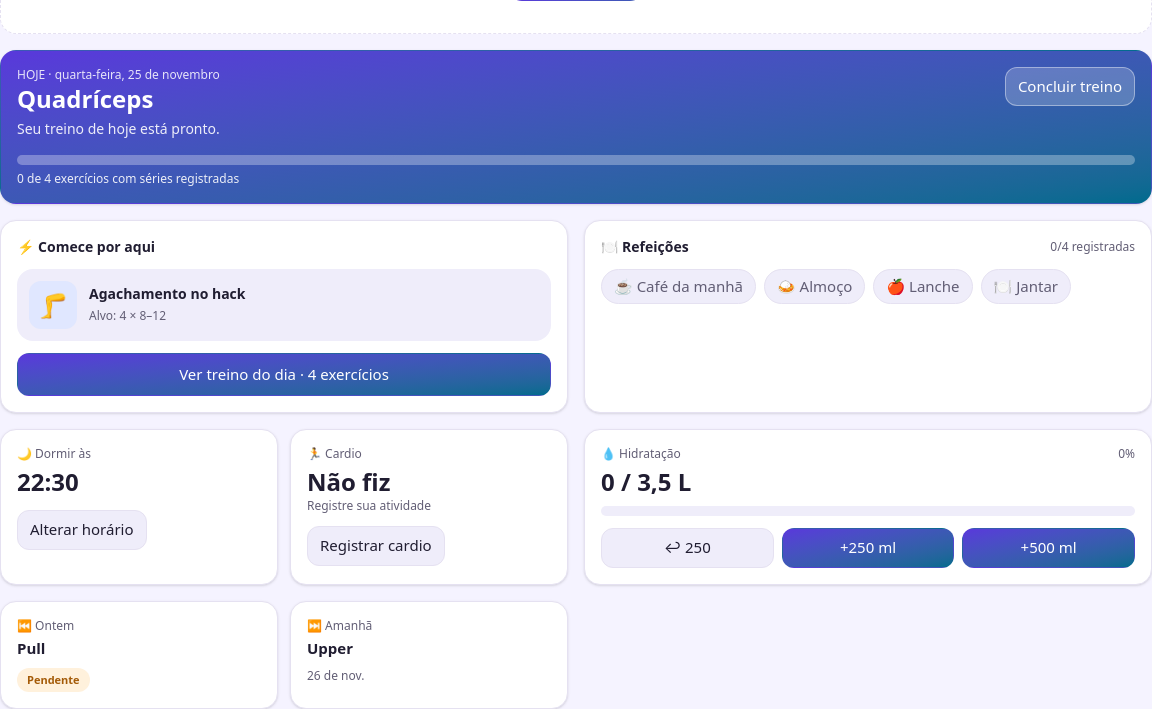
Test: Início (resumo do dia) › cardio validado (1–600) e meta de água sobe 500 ml com cardio
(page scrolled)
Click the button "Registrar cardio" at [376, 546], box [307,526,445,566]
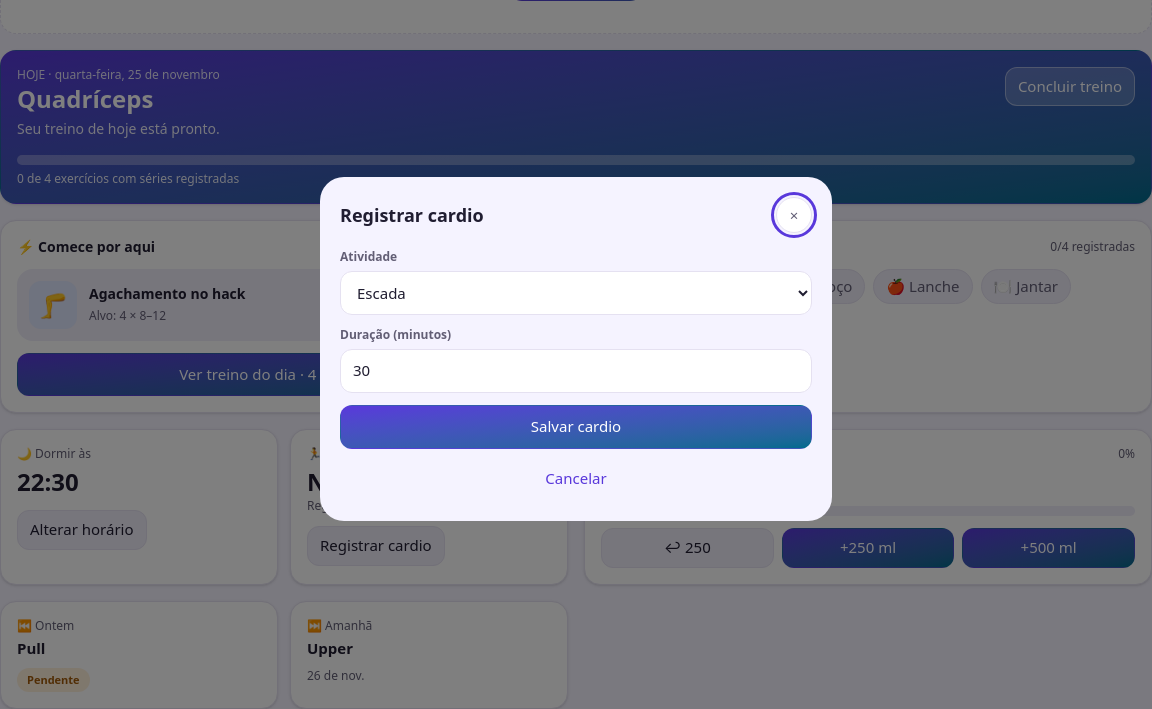
Replace the text in the number field labelled "Duração (minutos)" with "900" at [576, 371], box [340,349,812,393]
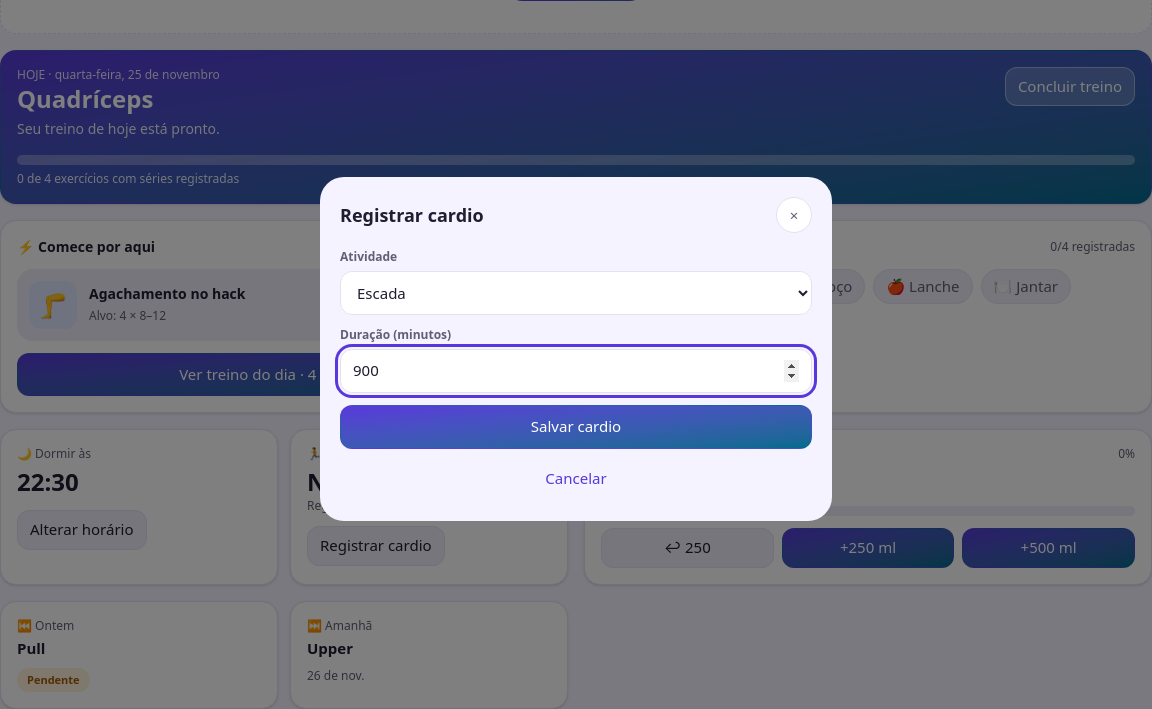
Click the button "Salvar cardio" at [576, 427], box [340,405,812,449]
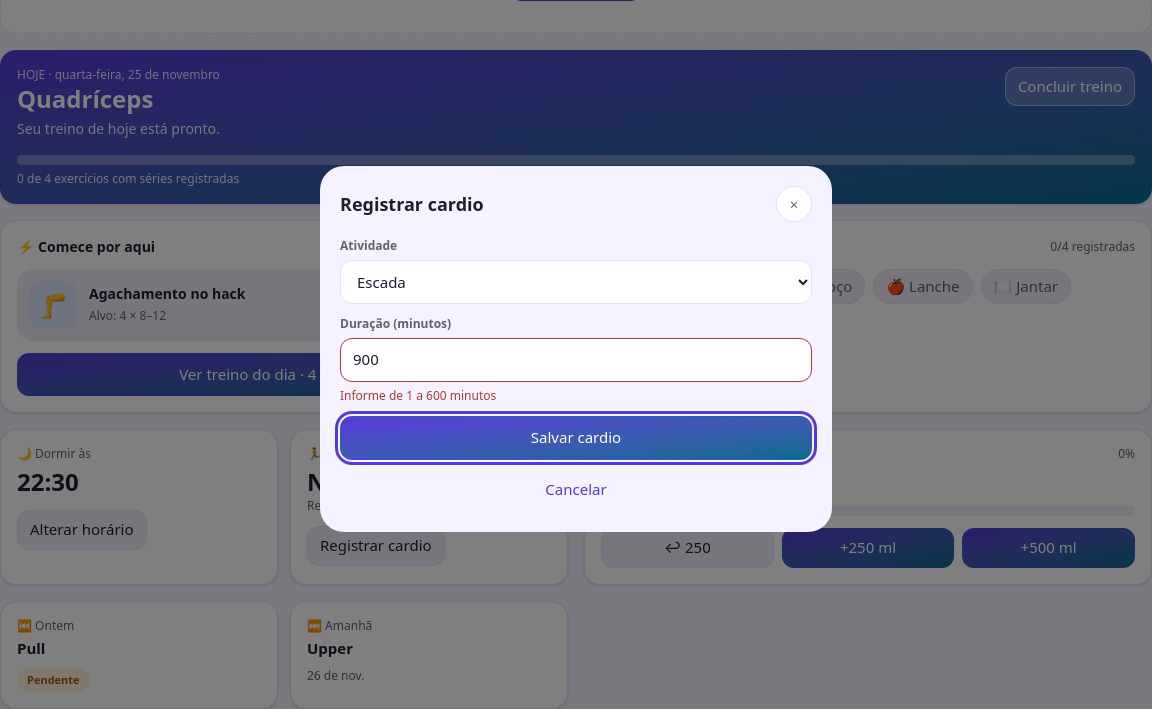
expect the text "Informe de 1 a 600 minutos" is shown: met, box [340,387,496,404]
Replace the text in the number field labelled "Duração (minutos)" with "40" at [576, 360], box [340,338,812,382]
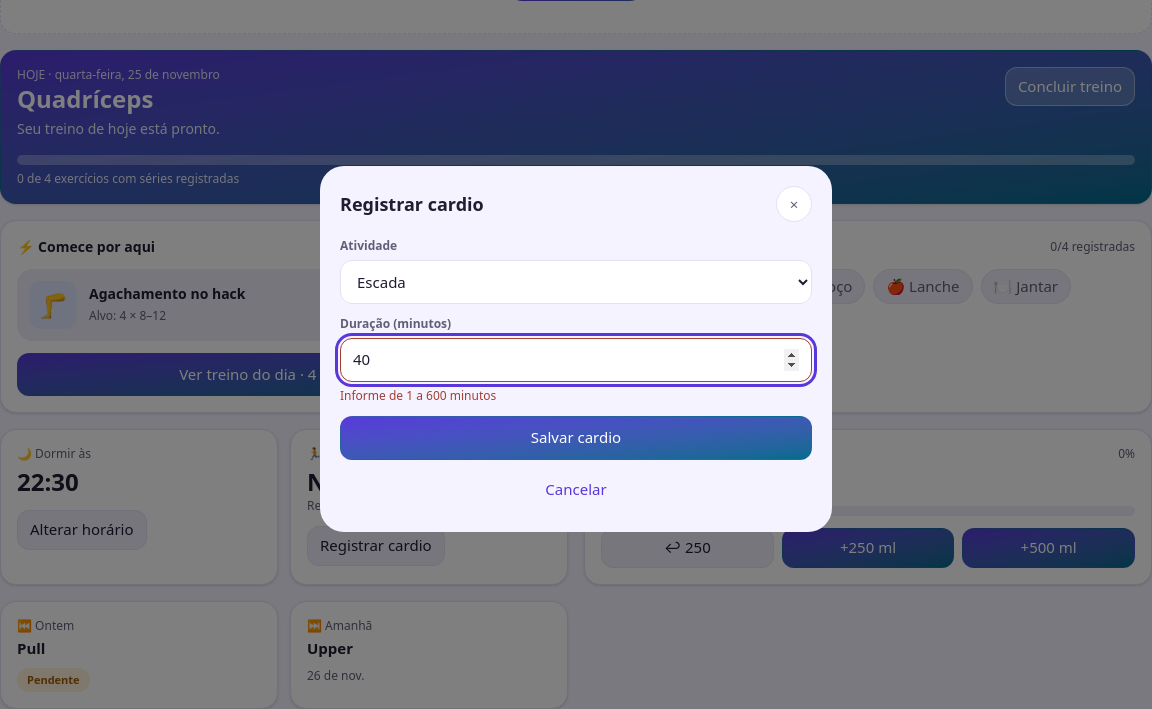
Click the button "Salvar cardio" at [576, 438], box [340,416,812,460]
(page scrolled)
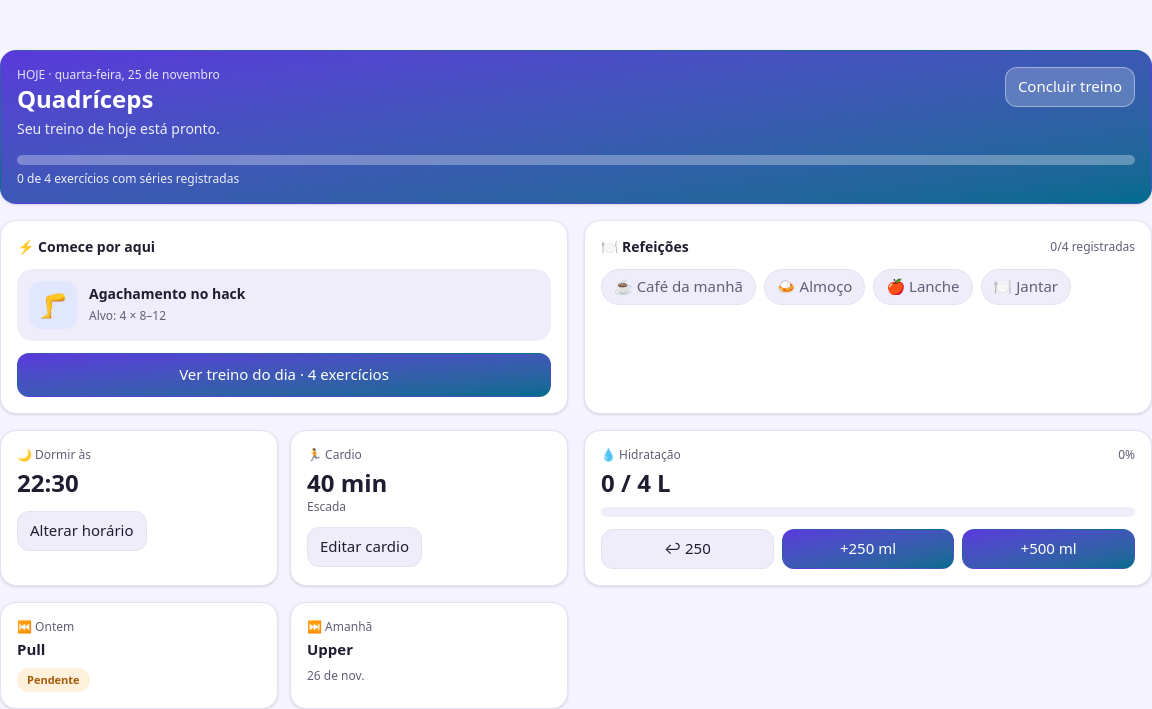
expect the text "40 min" is shown: met, box [307,466,387,499]
expect the text "0 / 4 L" is shown: met, box [601,467,681,499]
